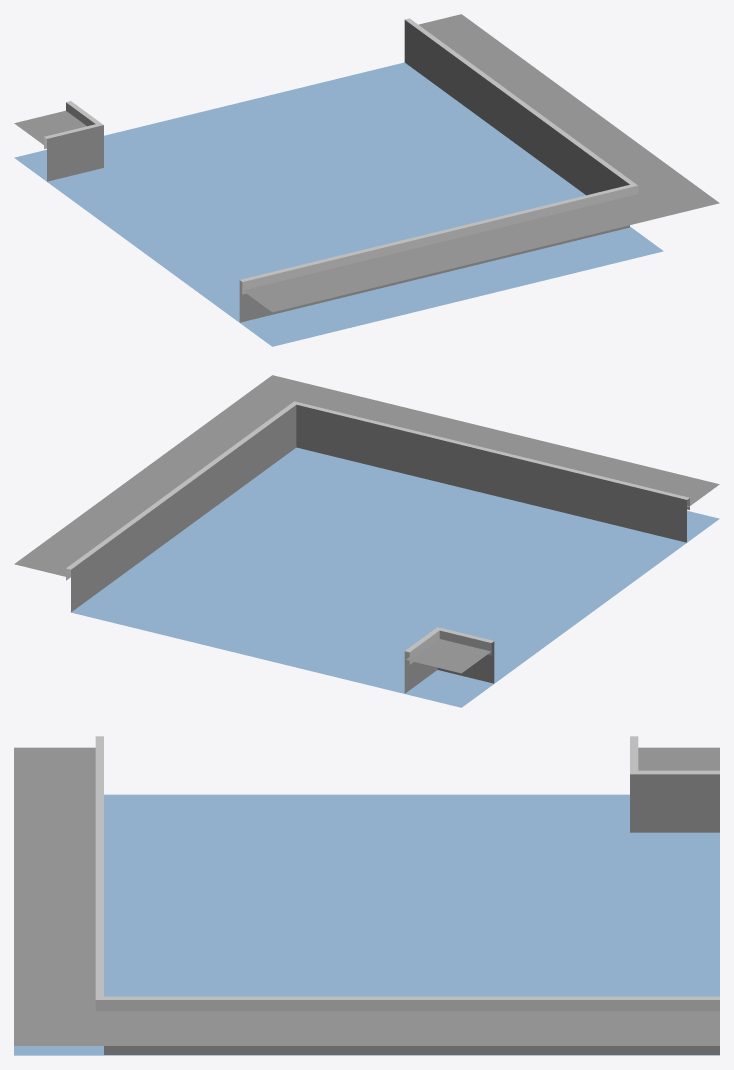
The model's file is road_tile_river_2x2_004.fbx.
3 views of the same model, one above another, from view 1: azimuth 30°, elevation 25°; view 2: azimuth 150°, elevation 25°; view 3: azimuth 270°, elevation 25° (orthographic). The views are drawn at different scales.
Visible parts, largest first — view 1: road_tile_river_2x2_004; view 2: road_tile_river_2x2_004; view 3: road_tile_river_2x2_004.
Part boxes in pixels (box(x1,y1,x2,y2)): road_tile_river_2x2_004: box(14, 14, 719, 346); road_tile_river_2x2_004: box(14, 375, 719, 707); road_tile_river_2x2_004: box(14, 736, 719, 1055).
Bounding box in the file's own units: 1600 × 146 × 1600.
